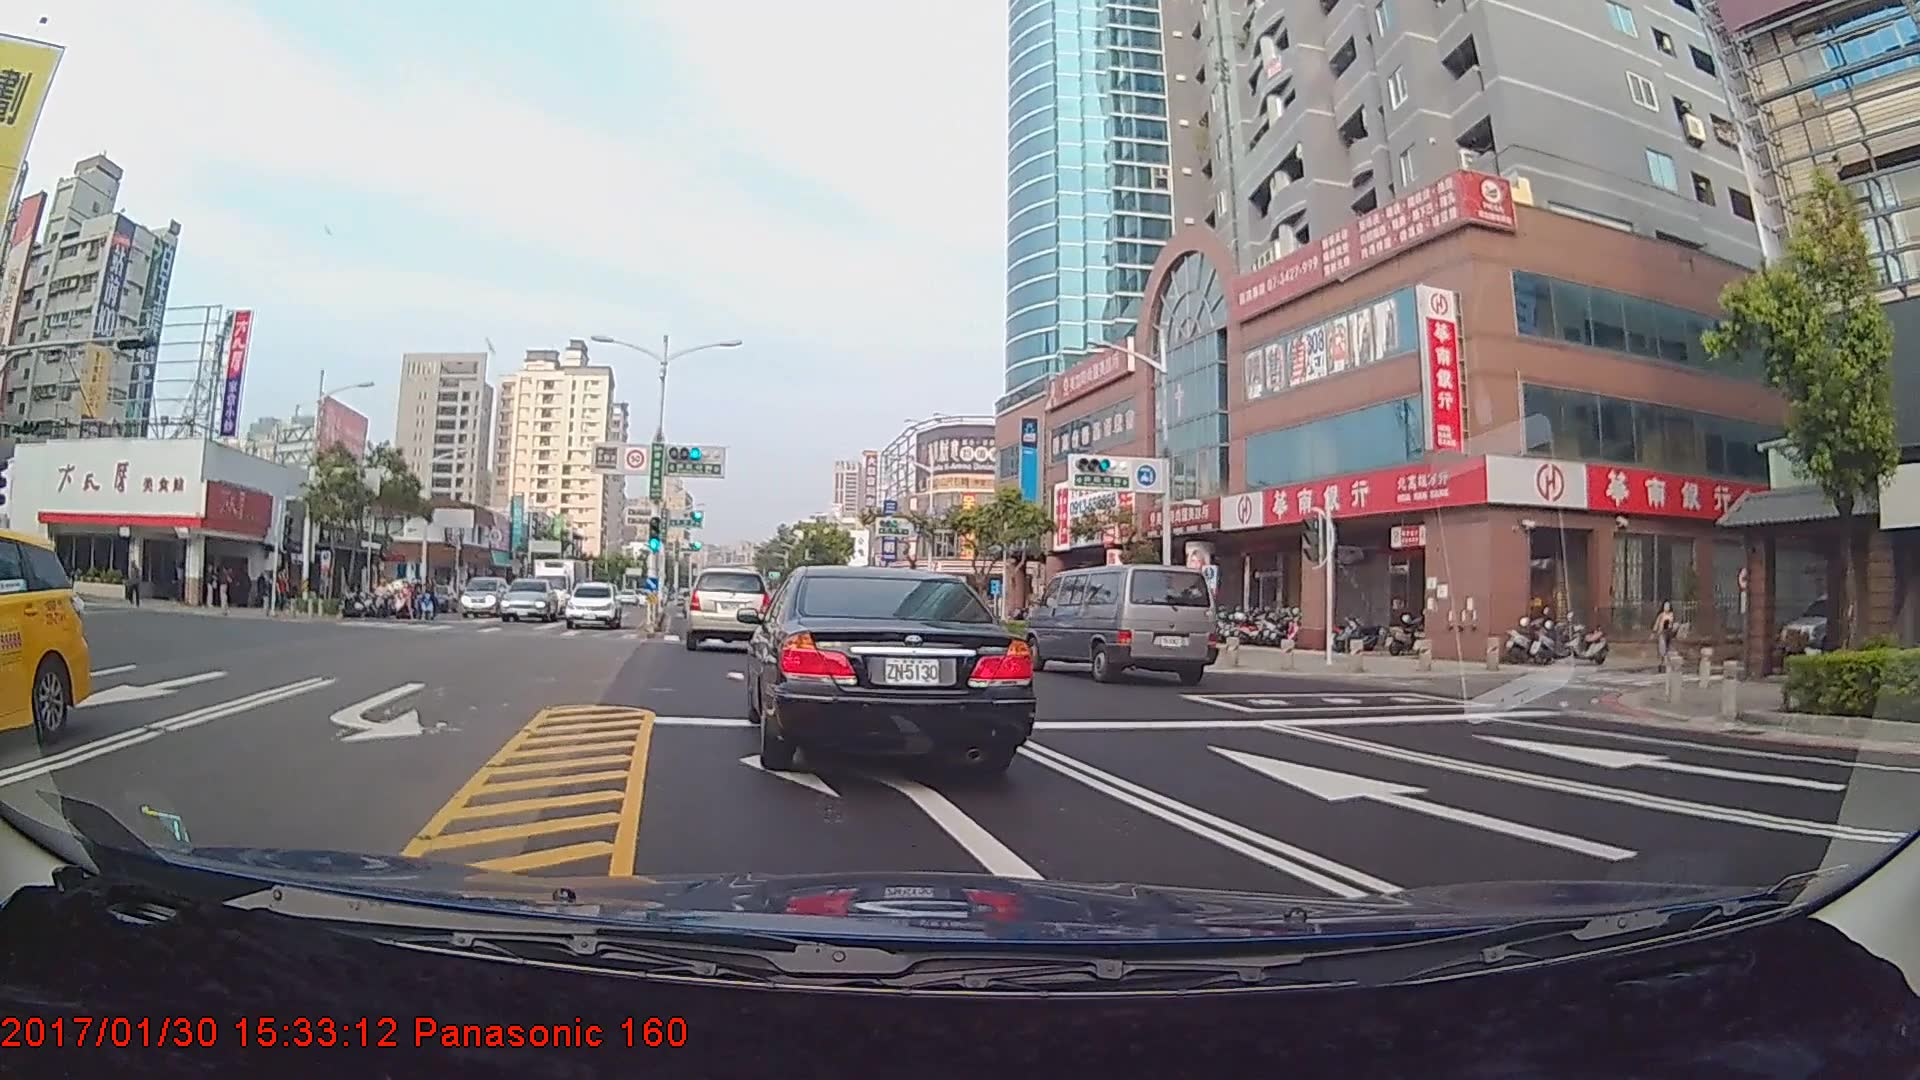pedestrian: (1654, 597, 1676, 663), (201, 559, 221, 609), (126, 560, 146, 608), (216, 563, 236, 610)
vehicle: (754, 557, 1033, 774), (1028, 560, 1220, 683), (0, 520, 86, 740), (682, 566, 772, 649), (535, 550, 589, 616), (498, 577, 562, 624), (566, 579, 622, 629), (459, 574, 512, 619)
